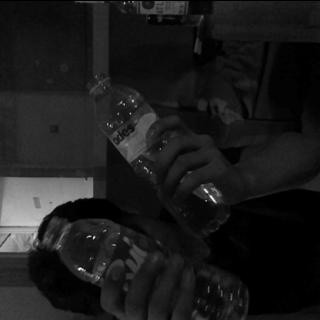plastic_bottles: (78, 69, 230, 231), (44, 215, 248, 316)
